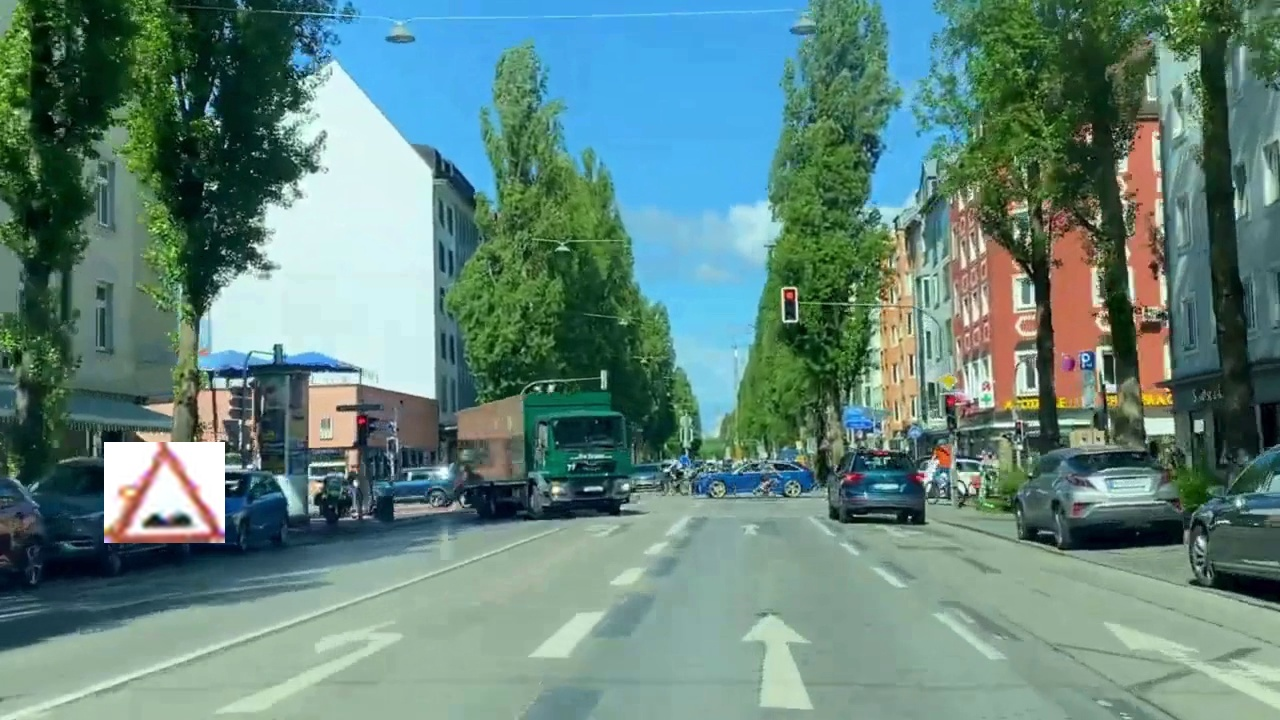Bumpy road: (104, 442, 225, 543)
